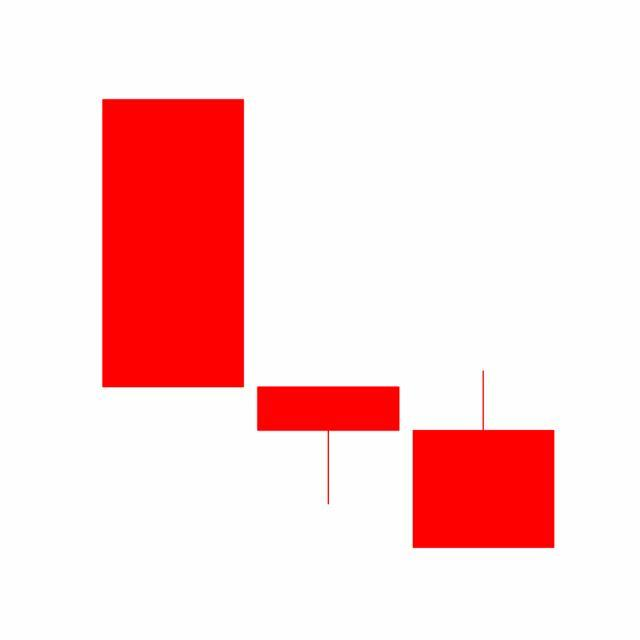Hammer: (250, 386, 407, 507)
